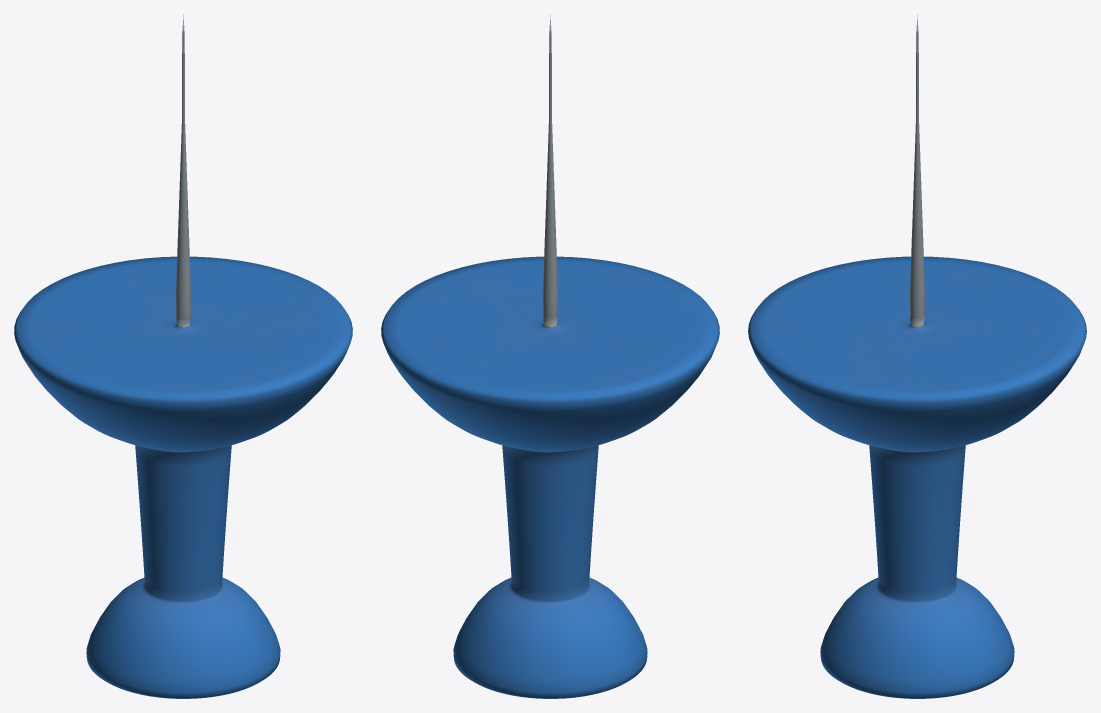
The model's file is thumbtack.fbx.
3 renders of one model, left to right at view 1: azimuth 30°, elevation 25°; view 2: azimuth 150°, elevation 25°; view 3: azimuth 270°, elevation 25°, orthographic.
Parts seen in each view (by area): view 1: Cylinder; view 2: Cylinder; view 3: Cylinder.
Part boxes in pixels (bbox=[...]): Cylinder: bbox=[14, 14, 352, 698]; Cylinder: bbox=[381, 14, 719, 698]; Cylinder: bbox=[748, 14, 1086, 698].
Size of the model in its own units: 127 by 268 by 127.
1 material, 1 textured.
